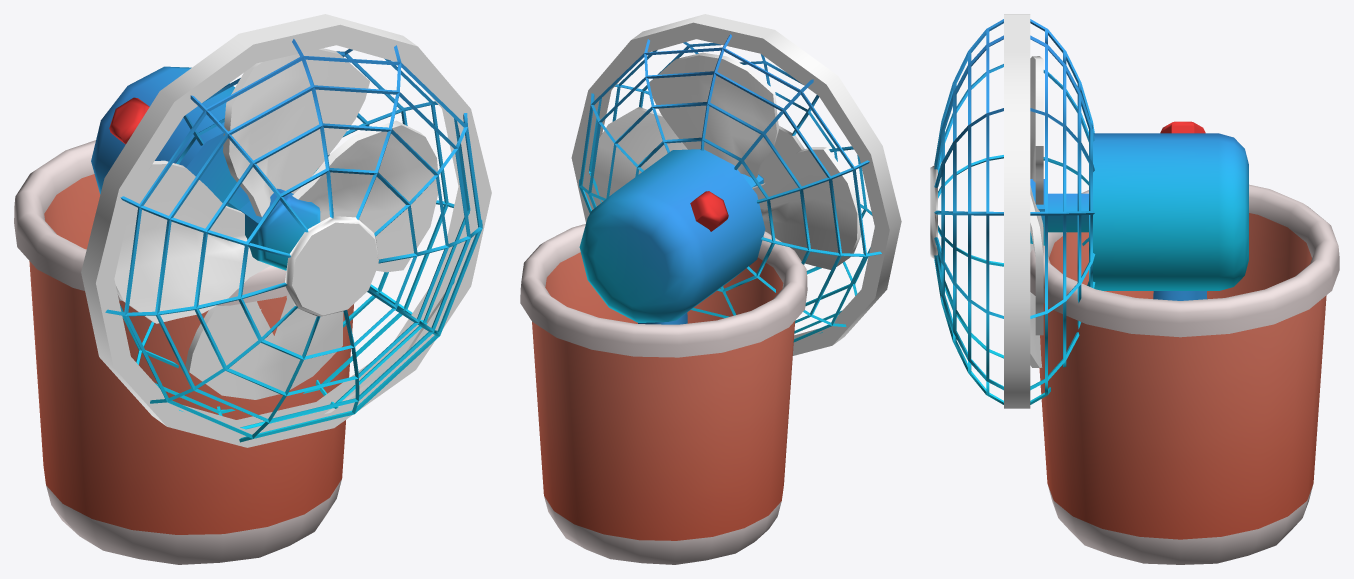
File: Paper Toss.fbx
3 views of the same model, side by side, from view 1: azimuth 30°, elevation 25°; view 2: azimuth 150°, elevation 25°; view 3: azimuth 270°, elevation 25° (orthographic). The views are drawn at different scales.
Visible parts, largest first — view 1: Bucket, Plane, Sphere, Cylinder, Cylinder.001, Cylinder.005, Cylinder.006; view 2: Bucket, Cylinder.001, Plane, Cylinder, Sphere, Cylinder.006; view 3: Bucket, Cylinder.001, Sphere, Cylinder, Plane, Cylinder.004, Cylinder.003.
Boxes of the visible parts, bbox=[...] form: Bucket: bbox=[14, 140, 353, 564]; Plane: bbox=[114, 48, 438, 399]; Sphere: bbox=[105, 39, 482, 442]; Cylinder: bbox=[81, 14, 491, 447]; Cylinder.001: bbox=[91, 66, 318, 206]; Cylinder.005: bbox=[239, 188, 320, 270]; Cylinder.006: bbox=[109, 97, 149, 144]; Bucket: bbox=[520, 224, 807, 564]; Cylinder.001: bbox=[579, 149, 765, 322]; Plane: bbox=[594, 52, 860, 269]; Cylinder: bbox=[571, 14, 901, 355]; Sphere: bbox=[579, 34, 881, 342]; Cylinder.006: bbox=[690, 191, 728, 231]; Bucket: bbox=[1030, 184, 1339, 564]; Cylinder.001: bbox=[1093, 133, 1248, 290]; Sphere: bbox=[930, 19, 1095, 404]; Cylinder: bbox=[1004, 14, 1030, 408]; Plane: bbox=[1030, 56, 1043, 367]; Cylinder.004: bbox=[1048, 193, 1088, 232]; Cylinder.003: bbox=[1153, 291, 1207, 300].
Bounding box in the file's own units: 207 × 275 × 209.
